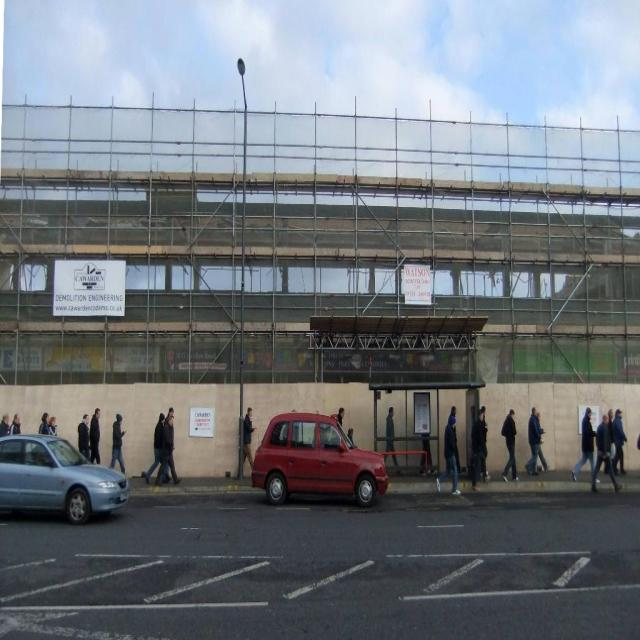car: (246, 413, 393, 511)
